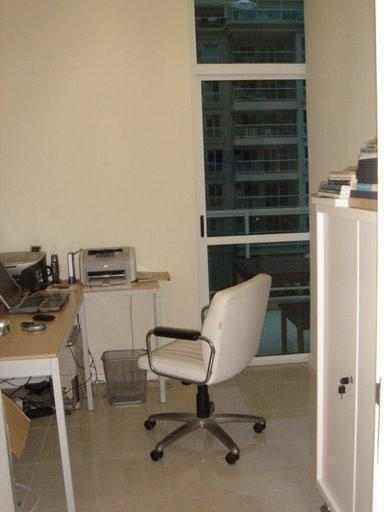Armario: (319, 200, 376, 509)
